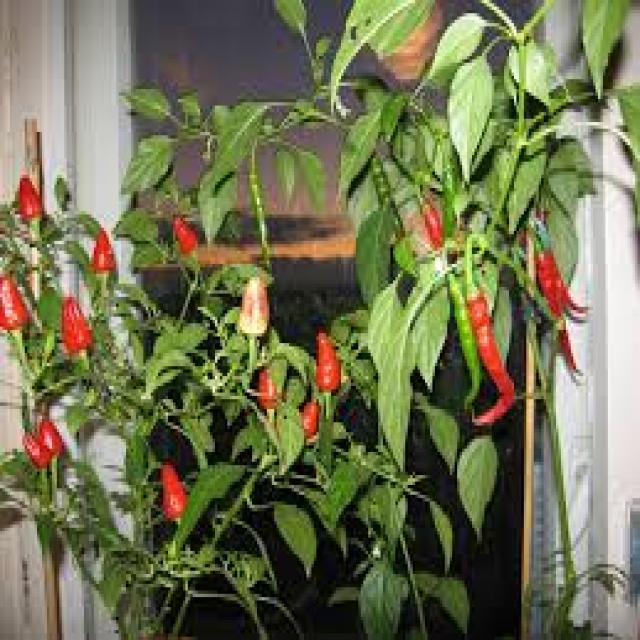hot pepper: (440, 256, 520, 436), (524, 208, 588, 378), (398, 166, 458, 266), (225, 266, 276, 350), (17, 399, 68, 478), (154, 448, 192, 530), (77, 214, 119, 286), (56, 286, 93, 361), (7, 172, 50, 232), (162, 206, 204, 262), (0, 264, 32, 336), (309, 324, 342, 392), (292, 384, 325, 436), (253, 357, 285, 409)
